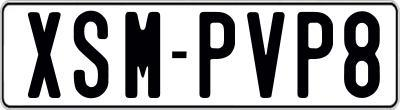8: (342, 11, 380, 100)
M: (125, 11, 162, 103)
P: (199, 11, 240, 101), (296, 12, 332, 98)
S: (73, 11, 113, 101)
V: (246, 10, 290, 102)
X: (27, 12, 63, 103)
